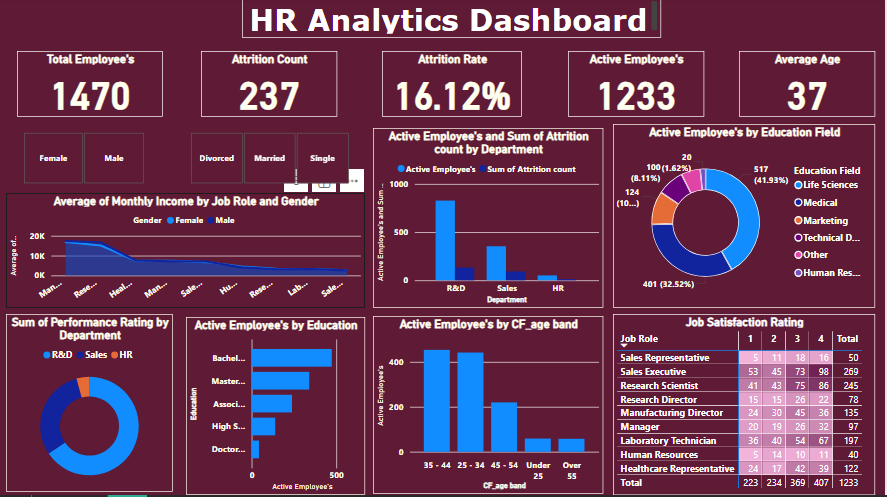

The dashboard page shown, as its layout file describes it:
{"tool":"powerbi","page":{"name":"Page 1","canvas":[1280,720],"ordinal":0},"visuals":[{"type":"card","title":"Total Employee''s","fields":{"Values":["Sum(HR data.Employee Count)"]},"box":[26,78.1,211.1,95.4],"z":0},{"type":"card","title":"Attrition Count","fields":{"Values":["Sum(HR data.Attrition count)"]},"box":[292,78.1,196.6,95.4],"z":1000},{"type":"card","title":"Attrition Rate","fields":{"Values":["HR data.Attrition rate"]},"box":[553.7,78.1,202.4,95.4],"z":2000},{"type":"card","title":"Active Employee''s","fields":{"Values":["HR data.Active Employee's"]},"box":[822.7,78.1,196.6,95.4],"z":3000},{"type":"card","title":"Average Age","fields":{"Values":["Avg(HR data.Age)"]},"box":[1069.9,78.1,196.6,95.4],"z":4000},{"type":"clusteredColumnChart","fields":{"Category":["HR data.Department"],"Y":["HR data.Active Employee's","Sum(HR data.Attrition count)"]},"box":[540.7,189.4,332.5,260.2],"z":6000},{"type":"donutChart","fields":{"Y":["HR data.Active Employee's"],"Category":["HR data.Education Field"]},"box":[887.7,183.6,378.8,266],"z":7000},{"type":"clusteredColumnChart","fields":{"Y":["HR data.Active Employee's"],"Category":["HR data.CF_age band"]},"box":[540.7,461.2,332.5,257.3],"z":7001},{"type":"pivotTable","title":"Job Satisfaction Rating","fields":{"Rows":["HR data.Job Role"],"Columns":["HR data.Job Satisfaction"],"Values":["HR data.Active Employee's"]},"box":[887.7,458.3,378.8,261.7],"z":7002},{"type":"donutChart","fields":{"Category":["HR data.Department"],"Y":["Sum(HR data.Performance Rating)"]},"box":[10.1,458.3,241.4,257.3],"z":7003},{"type":"barChart","fields":{"Category":["HR data.Education"],"Y":["HR data.Active Employee's"]},"box":[270.4,462.7,258.8,257.3],"z":7004},{"type":"areaChart","fields":{"Category":["HR data.Job Role"],"Y":["Avg(HR data.Monthly Income)"],"Series":["HR data.Gender"]},"box":[10.1,283.4,519,166.3],"z":7005},{"type":"slicer","fields":{"Values":["HR data.Gender"]},"box":[10.1,189.4,222.7,86.7],"z":7006},{"type":"slicer","fields":{"Values":["HR data.Marital Status"]},"box":[251.6,189.4,277.6,86.7],"z":7007},{"type":"textbox","box":[351.3,0,605.8,59.3],"z":7008}]}

Visuals, with their boxes in screenshot pixels (x1, y1, x2, y2), scaled from the page's 1280x720 canvas onto the 887x497 screenshot:
"Total Employee''s" card: <bbox>18, 54, 164, 120</bbox>
"Attrition Count" card: <bbox>202, 54, 339, 120</bbox>
"Attrition Rate" card: <bbox>384, 54, 524, 120</bbox>
"Active Employee''s" card: <bbox>570, 54, 706, 120</bbox>
"Average Age" card: <bbox>741, 54, 878, 120</bbox>
clusteredColumnChart - HR data.Department x HR data.Active Employee's: <bbox>375, 131, 605, 310</bbox>
donutChart - HR data.Active Employee's x HR data.Education Field: <bbox>615, 127, 878, 310</bbox>
clusteredColumnChart - HR data.Active Employee's x HR data.CF_age band: <bbox>375, 318, 605, 496</bbox>
"Job Satisfaction Rating" pivotTable: <bbox>615, 316, 878, 496</bbox>
donutChart - HR data.Department x Sum(HR data.Performance Rating): <bbox>7, 316, 174, 494</bbox>
barChart - HR data.Education x HR data.Active Employee's: <bbox>187, 319, 367, 496</bbox>
areaChart - HR data.Job Role x Avg(HR data.Monthly Income): <bbox>7, 196, 367, 310</bbox>
slicer - HR data.Gender: <bbox>7, 131, 161, 191</bbox>
slicer - HR data.Marital Status: <bbox>174, 131, 367, 191</bbox>
textbox: <bbox>243, 0, 663, 41</bbox>
